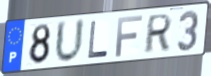3: (176, 8, 200, 54)
8: (26, 23, 51, 67)
F: (114, 14, 144, 59)
L: (86, 20, 109, 60)
R: (142, 12, 174, 55)
U: (53, 17, 86, 65)
